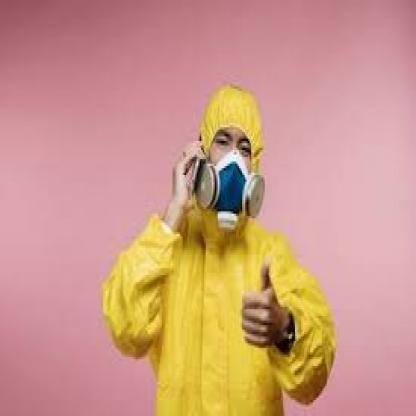thumb_up: (236, 255, 282, 351)
